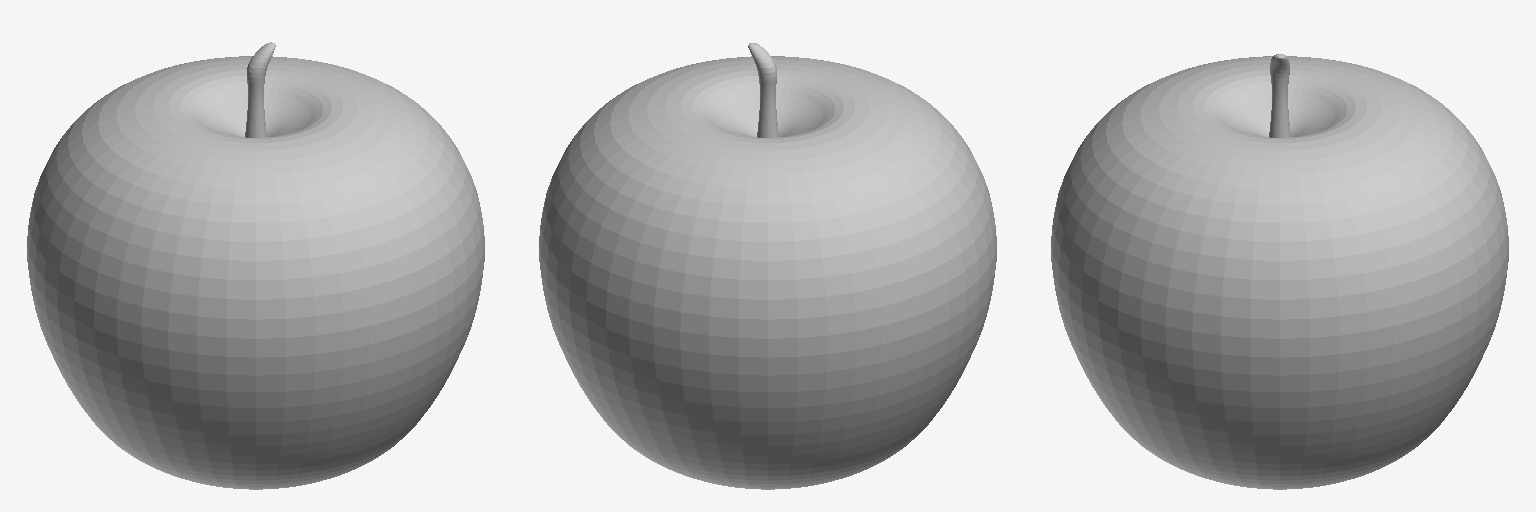
Rendered from apple.obj.
The picture shows the model from 3 angles: view 1: azimuth 30°, elevation 25°; view 2: azimuth 150°, elevation 25°; view 3: azimuth 270°, elevation 25°; orthographic projection.
Visible parts, largest first — view 1: Circle, Circle.001; view 2: Circle, Circle.001; view 3: Circle, Circle.001.
Boxes of the visible parts, x1=… form: Circle: x1=27, y1=56, x2=484, y2=489; Circle.001: x1=245, y1=42, x2=275, y2=137; Circle: x1=539, y1=56, x2=996, y2=489; Circle.001: x1=748, y1=43, x2=778, y2=137; Circle: x1=1051, y1=56, x2=1508, y2=489; Circle.001: x1=1269, y1=54, x2=1290, y2=137.
Bounding box in the file's own units: 2.25 × 2.26 × 2.25.